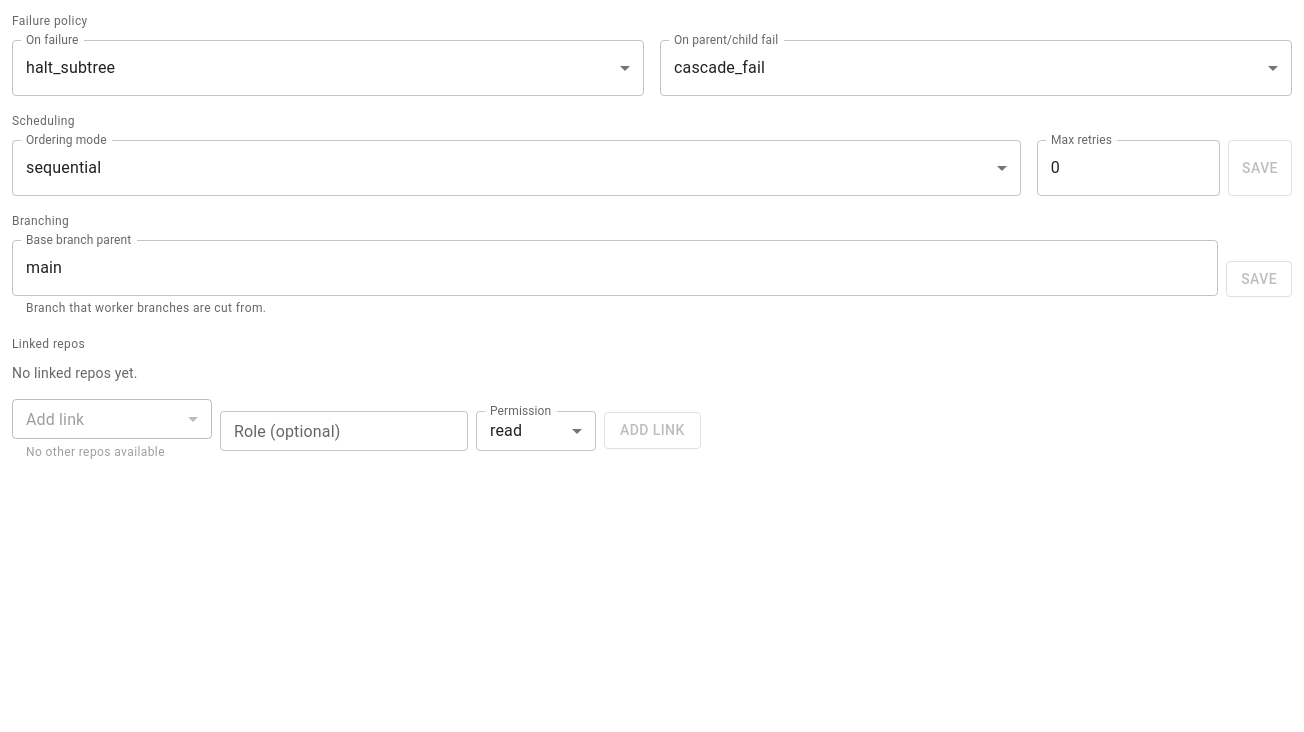
Test: RepoSettingsPanel › rejects empty base_branch_parent and does not PATCH
The width and height of the screenshot is (1304, 732).
Clear the field labelled "Base branch parent" at {"x": 615, "y": 268}, box [12, 240, 1218, 296]
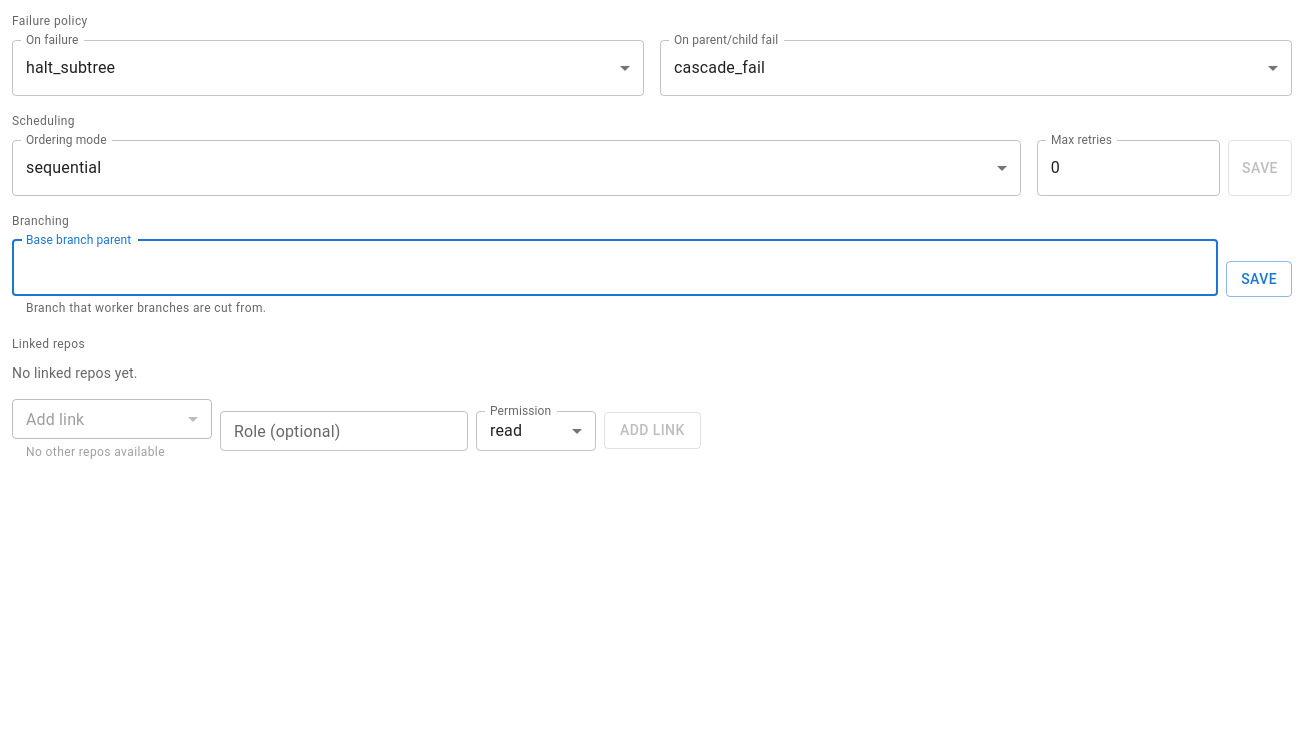
Click the button with aria-label "save base branch parent" at {"x": 1259, "y": 279}, box [1226, 261, 1292, 297]
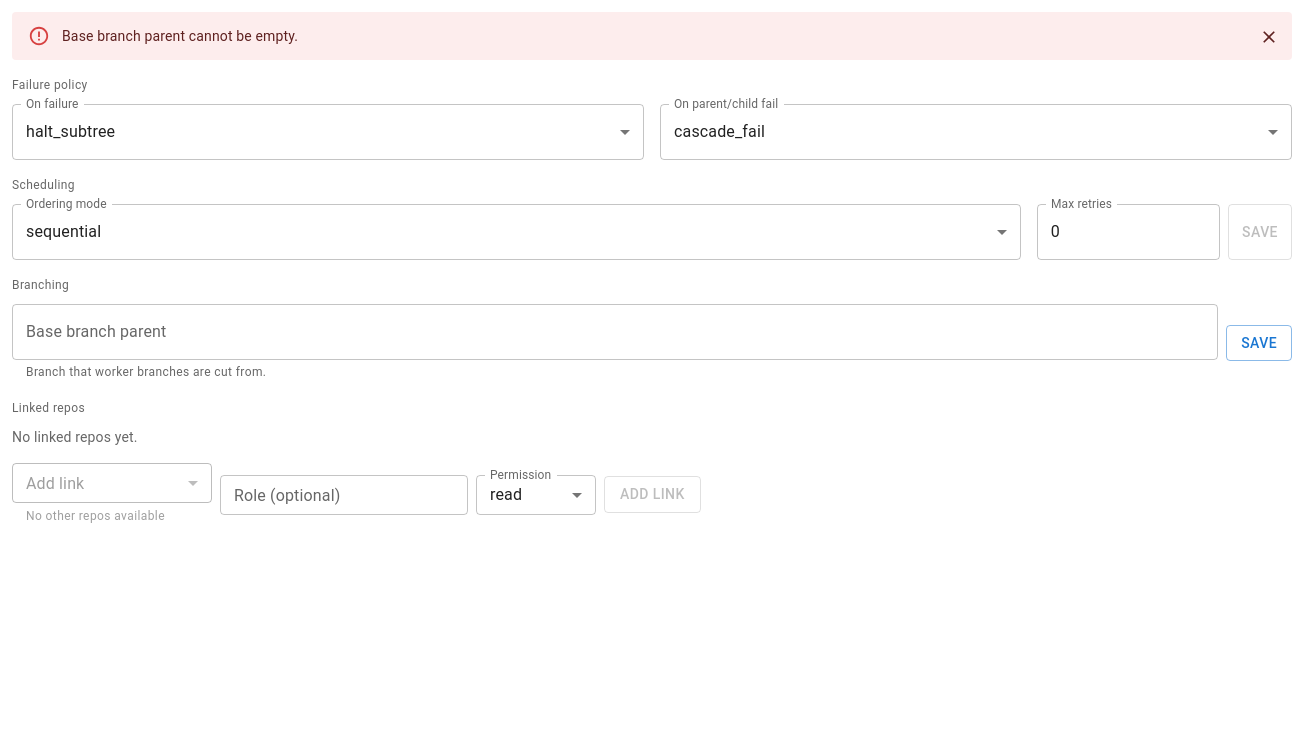
Check: the text "Base branch parent cannot be empty." is shown, box [62, 28, 298, 44]
